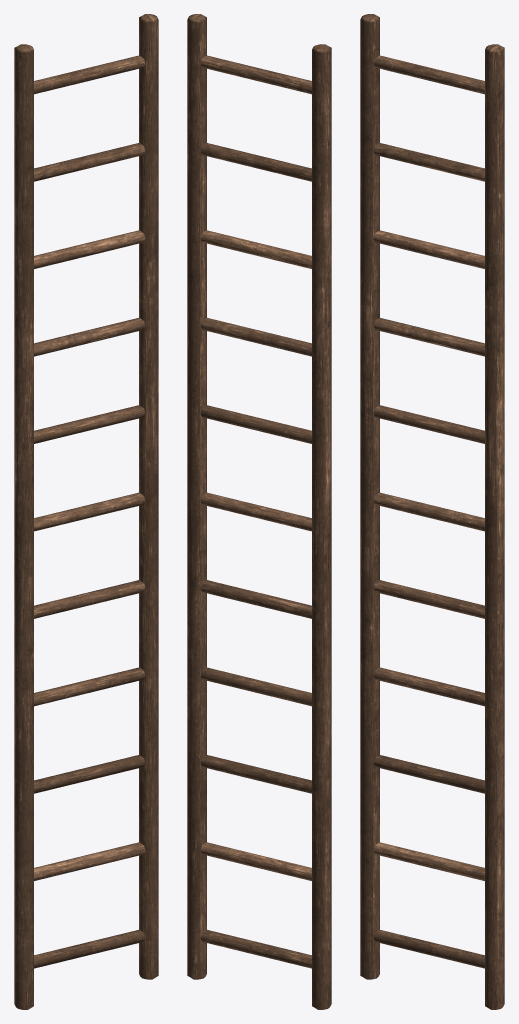
The model's file is ladder.glb.
3 renders of one model, left to right at view 1: azimuth 30°, elevation 25°; view 2: azimuth 150°, elevation 25°; view 3: azimuth 330°, elevation 25°, orthographic.
Visible parts, largest first — view 1: pCube24; view 2: pCube24; view 3: pCube24.
Part boxes in pixels (x1=…): pCube24: x1=14, y1=14, x2=158, y2=1009; pCube24: x1=187, y1=14, x2=331, y2=1009; pCube24: x1=360, y1=14, x2=504, y2=1009.
Size of the model in its own units: 1.69 by 11 by 0.2.
1 material, 1 textured.
